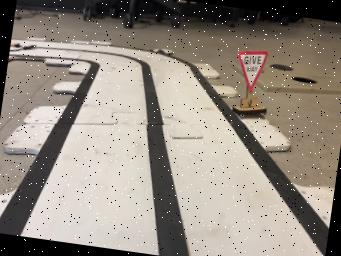give_way: (232, 50, 267, 119), (232, 50, 267, 119), (232, 50, 267, 119), (232, 50, 267, 119), (232, 50, 267, 119), (232, 50, 267, 119)
street: (0, 40, 329, 256), (0, 40, 329, 256), (0, 40, 329, 256), (0, 40, 329, 256), (0, 40, 329, 256), (0, 40, 329, 256)
